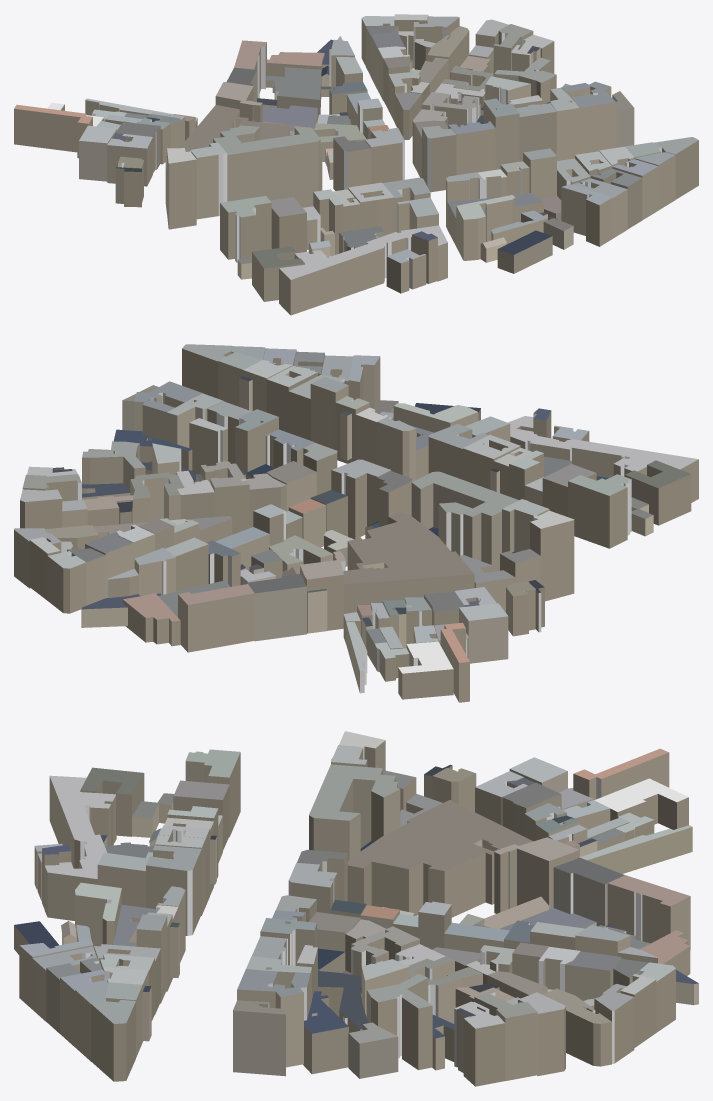
3 renders of one model, top to bottom at view 1: azimuth 30°, elevation 25°; view 2: azimuth 150°, elevation 25°; view 3: azimuth 270°, elevation 25°, orthographic. The views are drawn at different scales.
Parts seen in each view (by area): view 1: tuile; view 2: tuile; view 3: tuile.
Boxes of the visible parts, box(x1,y1,x2,y2) form: tuile: box(14, 14, 698, 315); tuile: box(14, 344, 698, 702); tuile: box(14, 731, 698, 1086).
Bounding box in the file's own units: 274 × 42.8 × 273.
